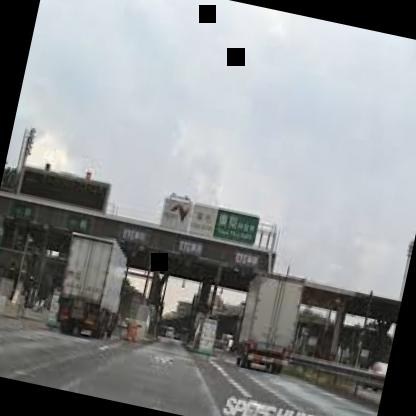car: (42, 222, 140, 358), (216, 248, 312, 386)
